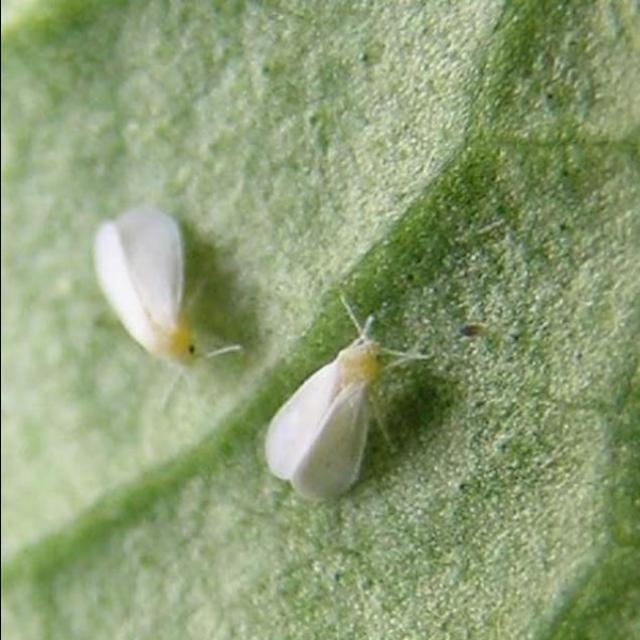Whitefly: (253, 300, 430, 514), (70, 190, 252, 381)
